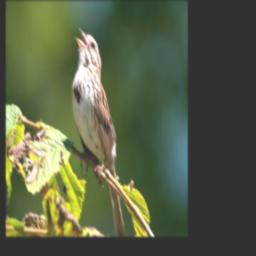Sparrow: (71, 26, 125, 234)
